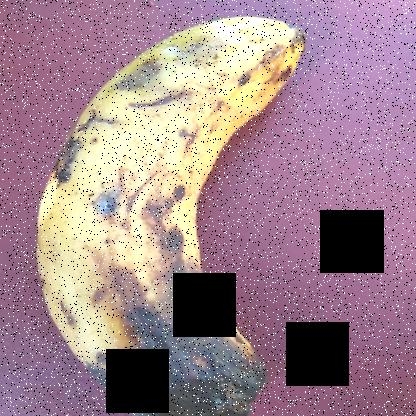rotten: (7, 1, 326, 415)
